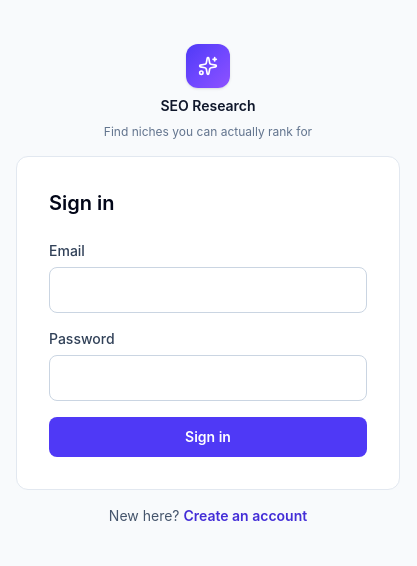
it: authentication form outcomes › reports a temporary outage that Auth.js returns with HTTP 200
Type "person@example.com" into the field labelled "Email" at point(208, 290), box [49,267,367,313]
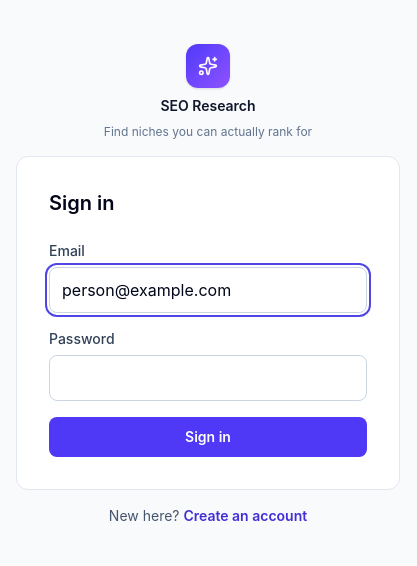
Type "correct horse battery staple" into the password field labelled "Password" at point(208, 378), box [49,355,367,401]
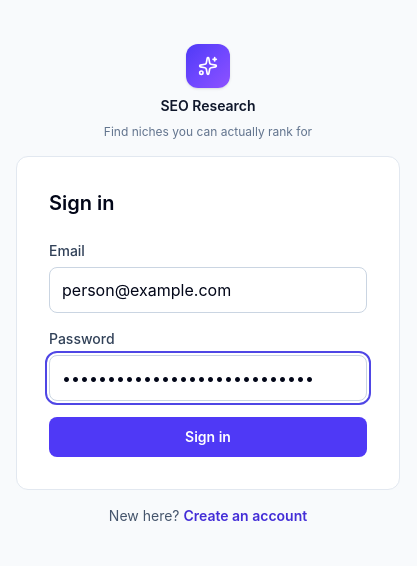
Click the button "Sign in" at point(208, 437), box [49,417,367,457]
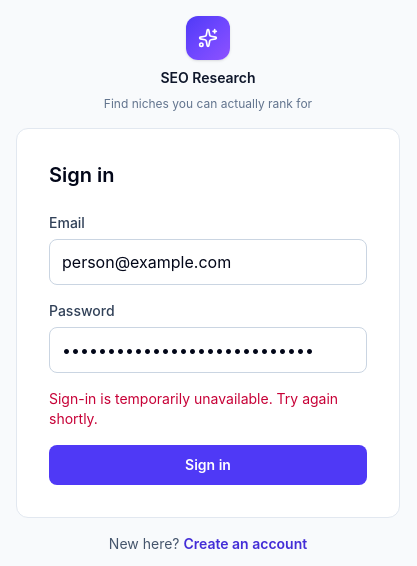
Expected: the message reads "Sign-in is temporarily unavailable. Try again shortly.", [49,390,338,427]
